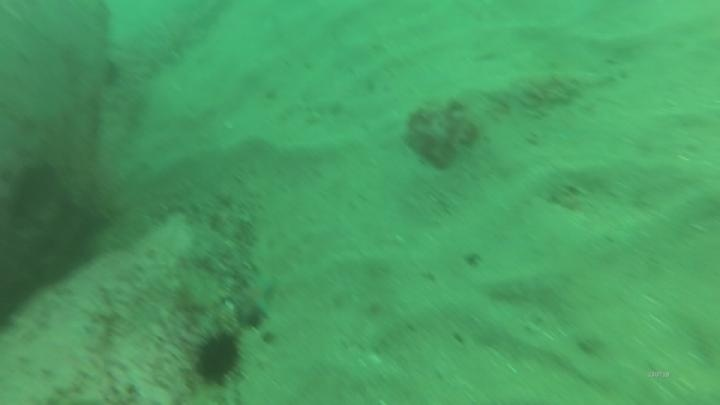echinus: (189, 327, 246, 388)
starfish: (226, 270, 281, 329)
